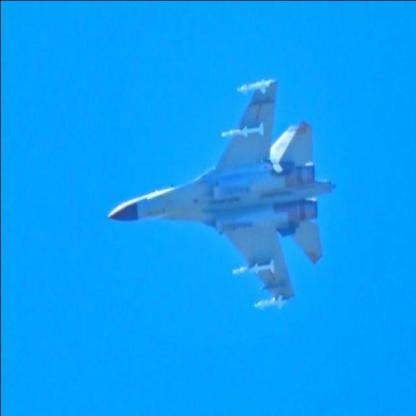MIL_TBM: (221, 121, 263, 138), (231, 258, 273, 275), (236, 78, 270, 95), (252, 294, 282, 310)
